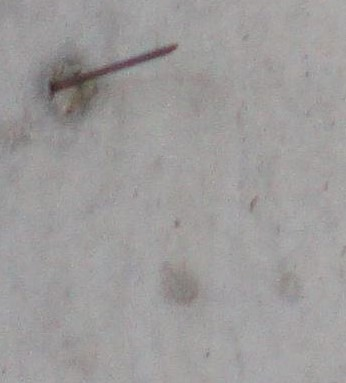Exposed reinforcement: (50, 42, 179, 93)
Spalling: (46, 57, 100, 124)
